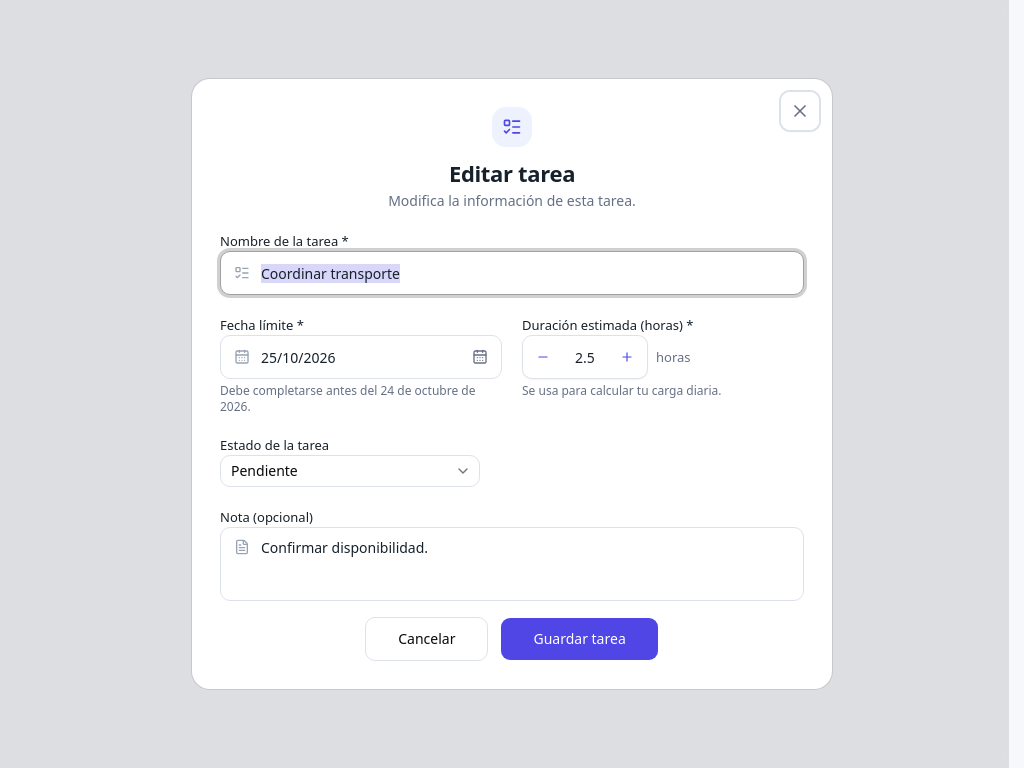
Test case: EditSubtaskDialog › rechaza una tarea posterior al día del evento en Bogotá
Click the button with aria-label "Guardar cambios". click: (580, 639)
box: top-left (500, 617), bottom-right (659, 661)
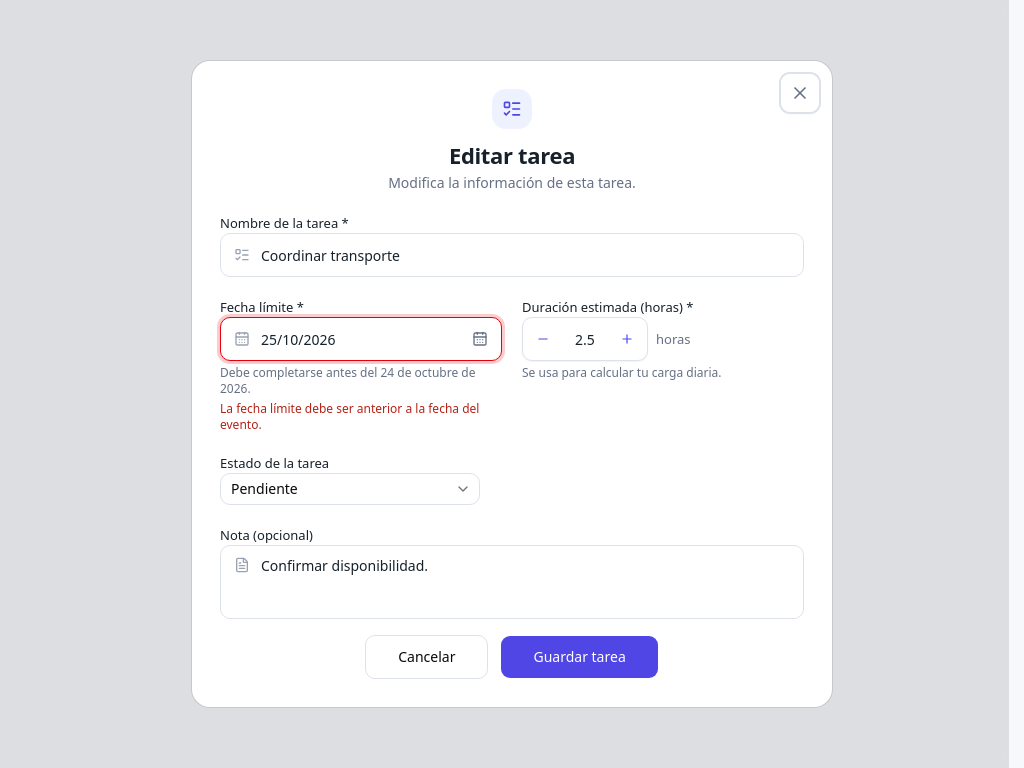
Expected: the text "La fecha límite debe ser anterior a la fecha del evento." is shown, top-left (220, 401), bottom-right (502, 433)
